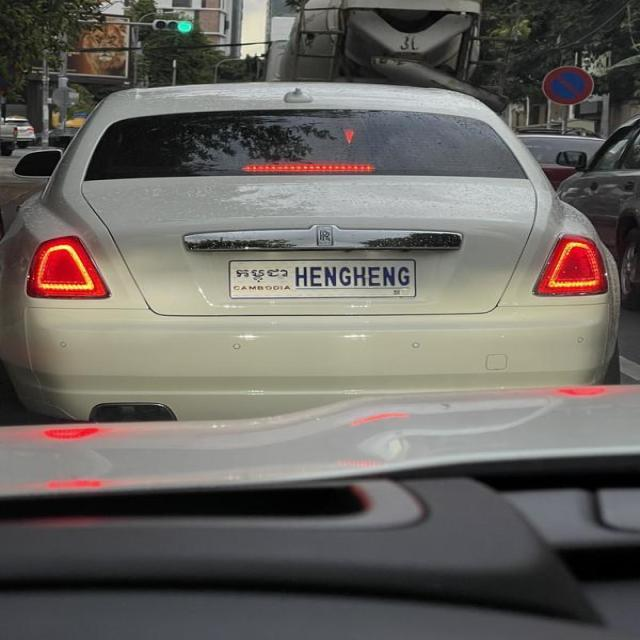Cambodia: (236, 267, 292, 284)
